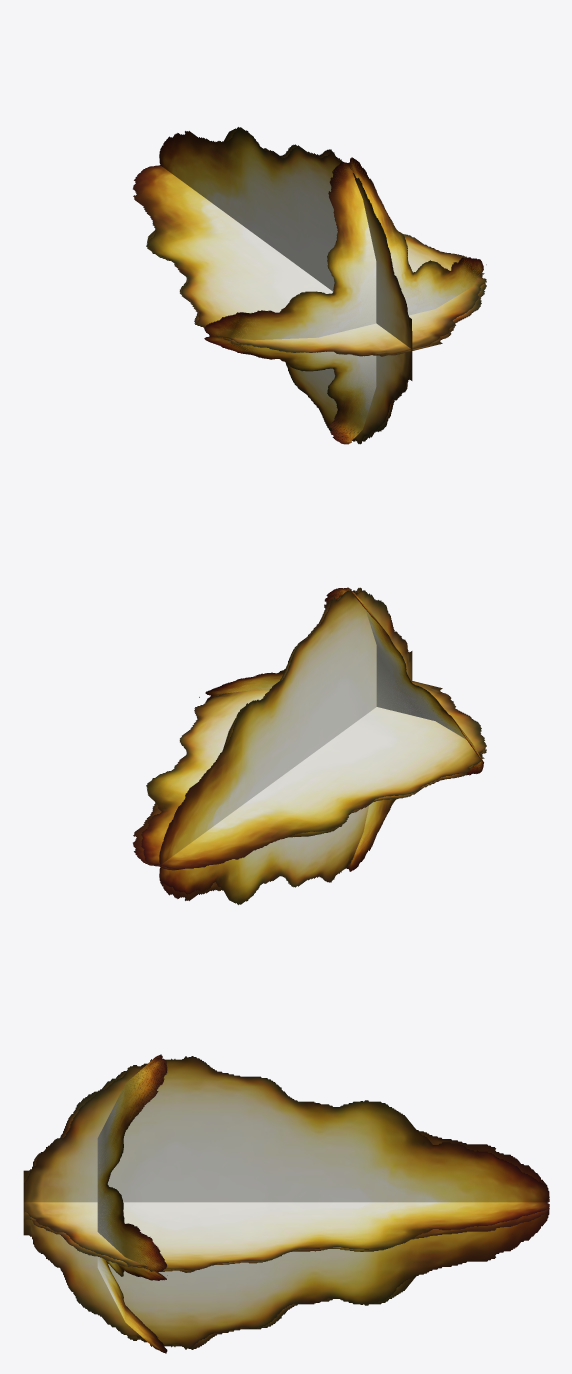
File: MuzzleFlash.fbx
3 renders of one model, top to bottom at view 1: azimuth 30°, elevation 25°; view 2: azimuth 150°, elevation 25°; view 3: azimuth 270°, elevation 25°, orthographic. The views are drawn at different scales.
Visible parts, largest first — view 1: guard; view 2: guard; view 3: guard.
Boxes of the visible parts, left/top/right/bottom form: guard: left=133, top=127, right=486, bottom=444; guard: left=133, top=587, right=486, bottom=904; guard: left=23, top=1054, right=549, bottom=1353.
Size of the model in its own units: 185 by 185 by 291.
